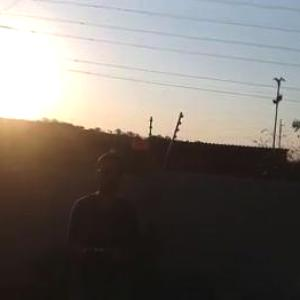follow: (58, 144, 150, 299)
